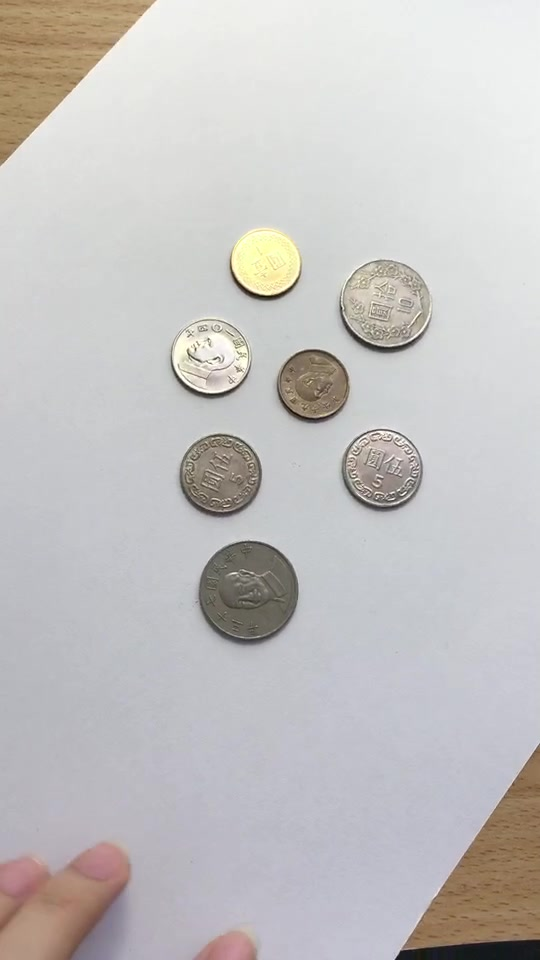1 dallar: (225, 221, 302, 303), (273, 346, 350, 428)
10 dallar: (193, 537, 310, 652), (332, 255, 440, 354)
5 dallar: (161, 314, 257, 400), (174, 432, 270, 518), (335, 426, 431, 512)
